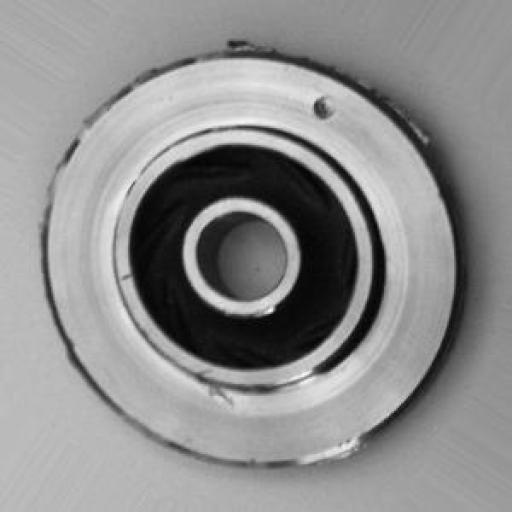defect: (30, 23, 495, 476), (301, 82, 356, 128)
